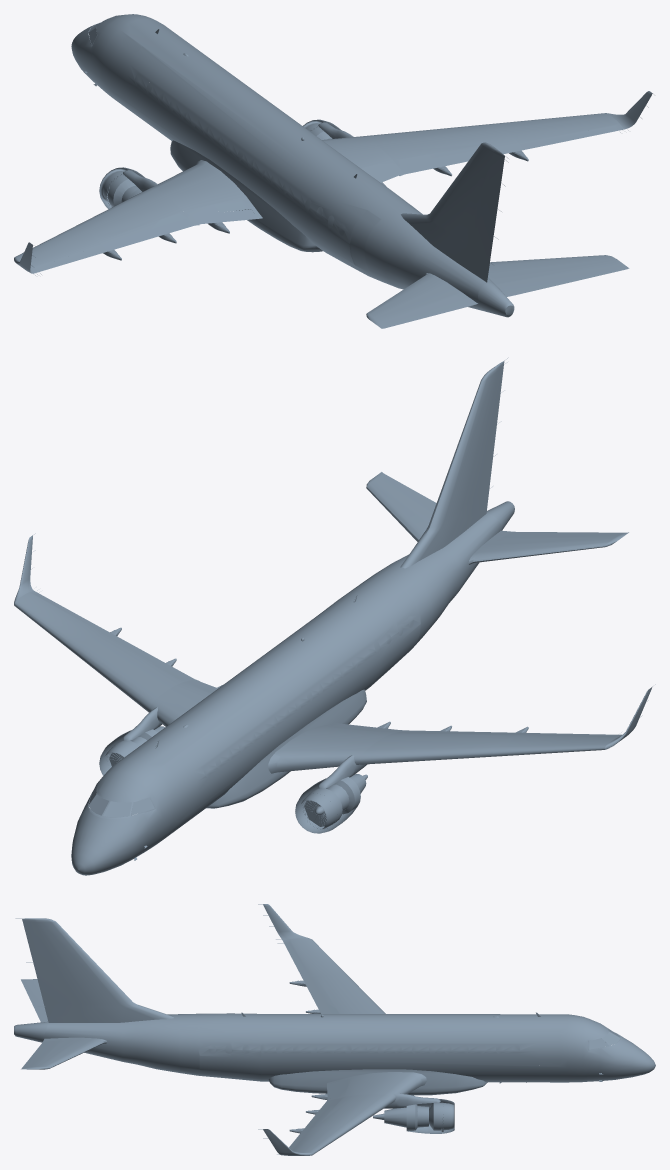
3 renders of one model, top to bottom at view 1: azimuth 30°, elevation 25°; view 2: azimuth 150°, elevation 25°; view 3: azimuth 270°, elevation 25°, orthographic. The views are drawn at different scales.
Bounding box in the file's own units: 25.56 × 9.46 × 30.82.
